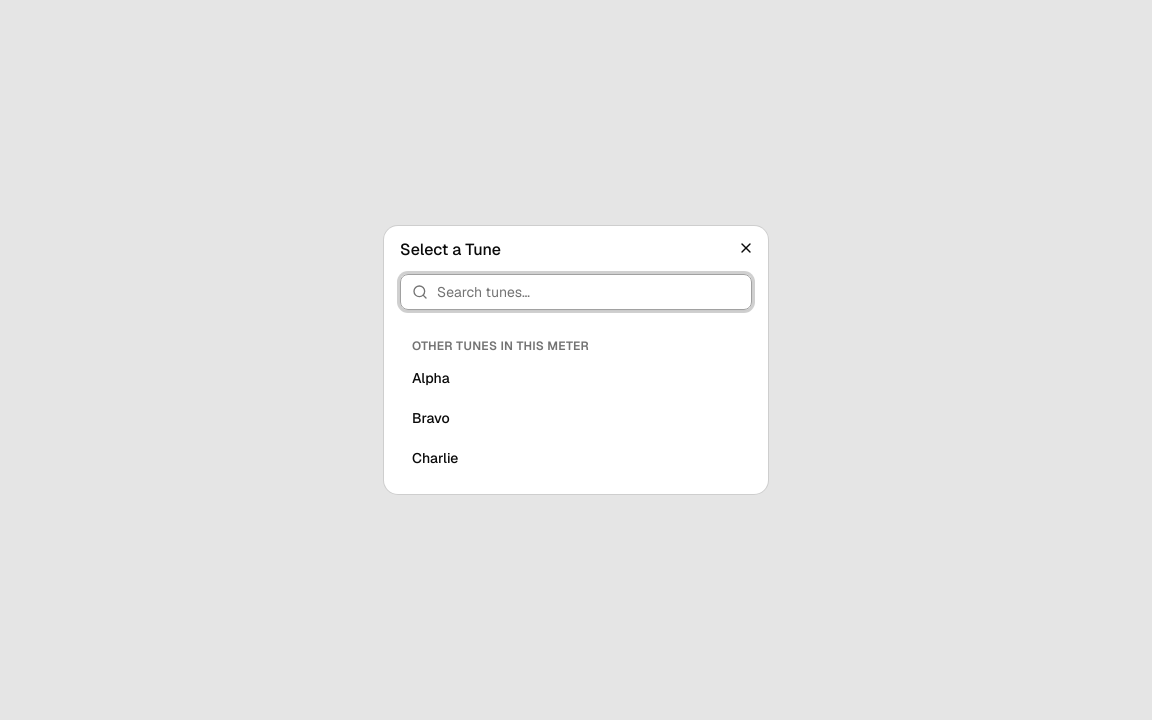
Test case: TunePickerDialog › filters the Mode B list by the search query
Type "Bravo" into the field with placeholder "Search tunes…" at (576, 292), box [400,274,752,310]
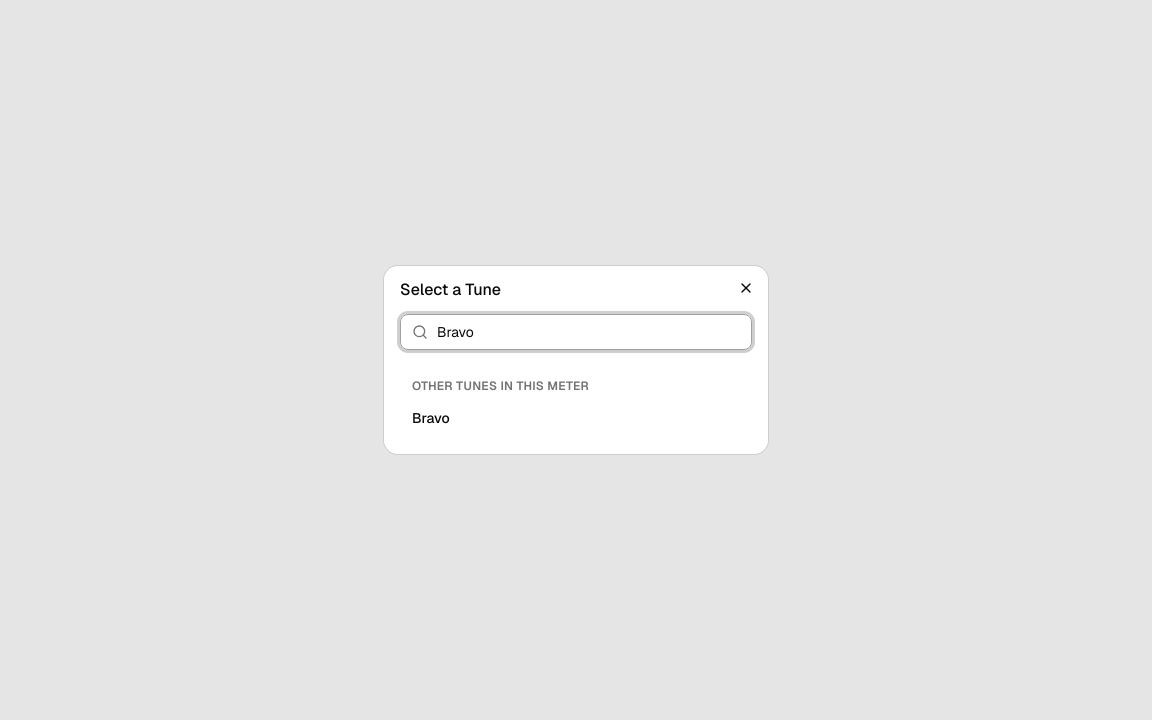
Expected: the text "Bravo" is shown, [412,408,450,428]
Expected: the button "Alpha" is gone
